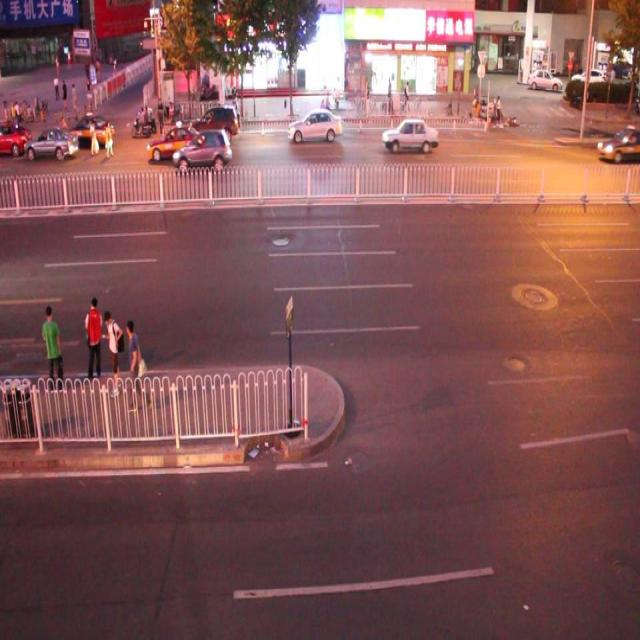car: (173, 128, 231, 172), (147, 122, 204, 160), (381, 116, 438, 154), (189, 103, 240, 144), (287, 107, 342, 143), (25, 127, 80, 162), (597, 124, 640, 166), (68, 111, 113, 146), (1, 118, 31, 156)
